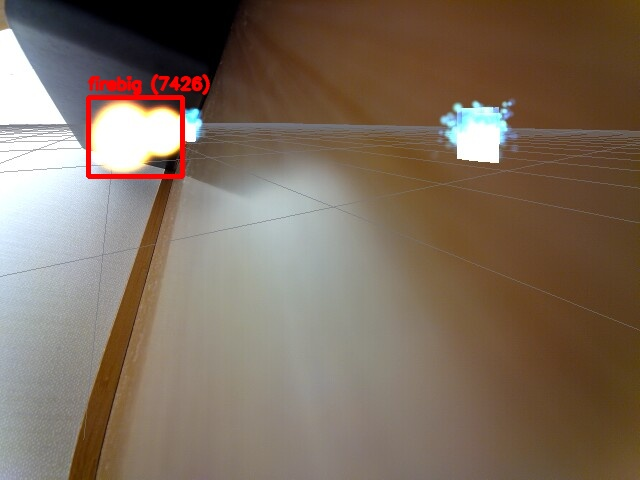firebig: (88, 97, 182, 176)
